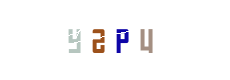2: (75, 0, 155, 80)
4: (81, 0, 161, 80)
P: (77, 0, 157, 80)
Y: (58, 0, 138, 80)
